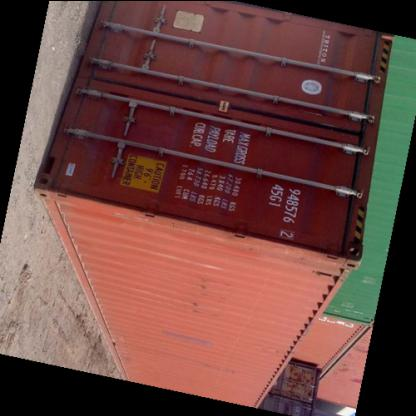Damage: (134, 112, 190, 146), (188, 274, 216, 319), (157, 326, 216, 342), (191, 358, 244, 375), (253, 344, 282, 362)
